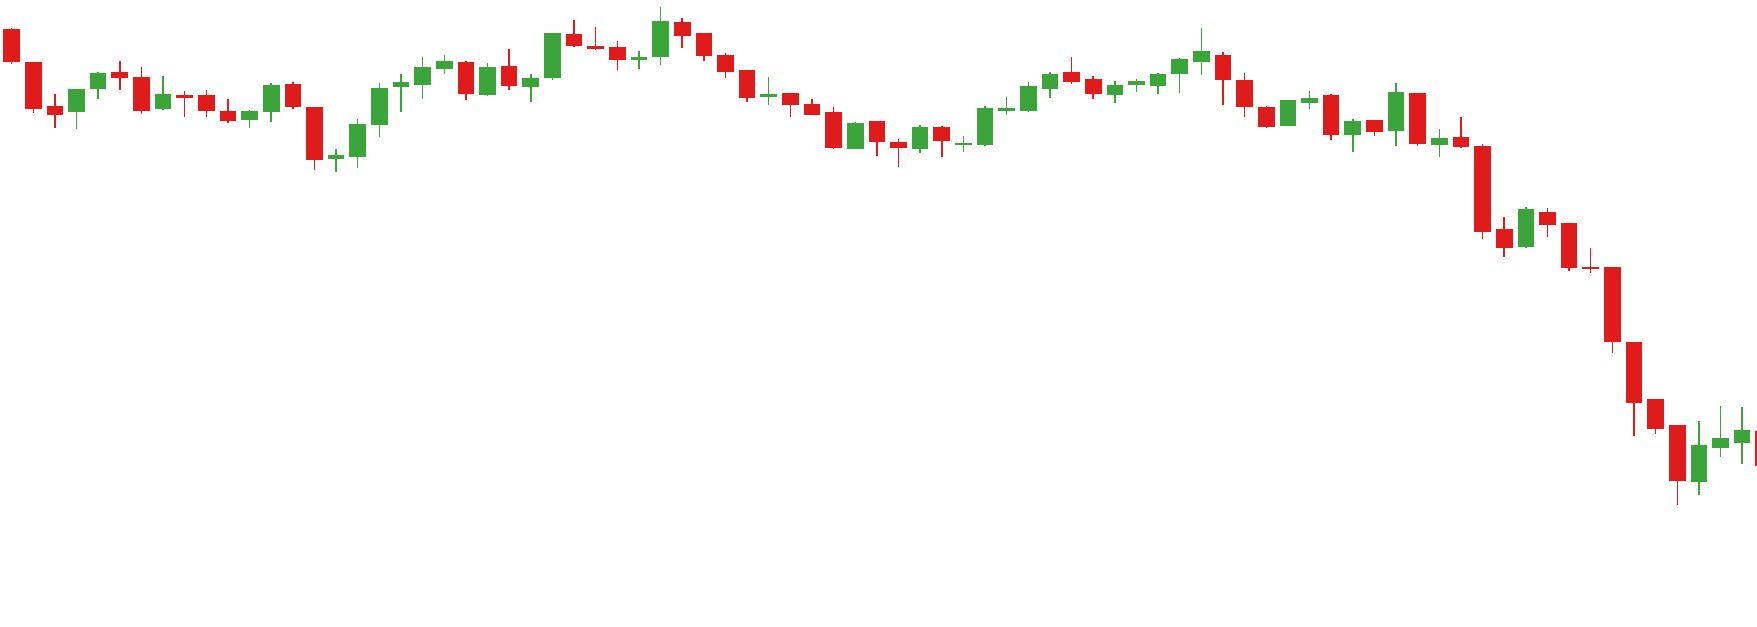sell: (1060, 26, 1229, 97), (564, 7, 691, 55)
